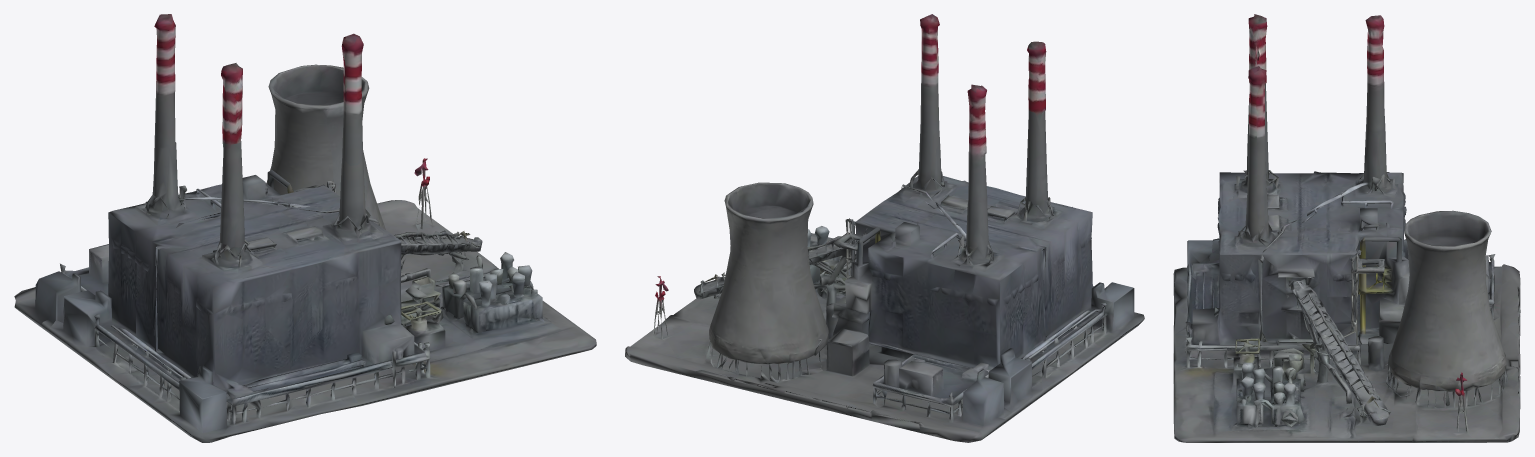
The model's file is power_plant.glb.
The picture shows the model from 3 angles, left to right: view 1: azimuth 30°, elevation 25°; view 2: azimuth 150°, elevation 25°; view 3: azimuth 270°, elevation 25°; orthographic projection. The views are drawn at different scales.
Parts seen in each view (by area): view 1: tripo_node_b08ccdfd-3d62-4547-98c3-6540cc7a6e88; view 2: tripo_node_b08ccdfd-3d62-4547-98c3-6540cc7a6e88; view 3: tripo_node_b08ccdfd-3d62-4547-98c3-6540cc7a6e88.
Boxes of the visible parts, x1,y1,x2,y2 form: tripo_node_b08ccdfd-3d62-4547-98c3-6540cc7a6e88: [14, 14, 596, 442]; tripo_node_b08ccdfd-3d62-4547-98c3-6540cc7a6e88: [625, 14, 1144, 442]; tripo_node_b08ccdfd-3d62-4547-98c3-6540cc7a6e88: [1173, 14, 1520, 442].
Bounding box in the file's own units: 1 × 0.777 × 0.848.
1 material, 1 textured.
